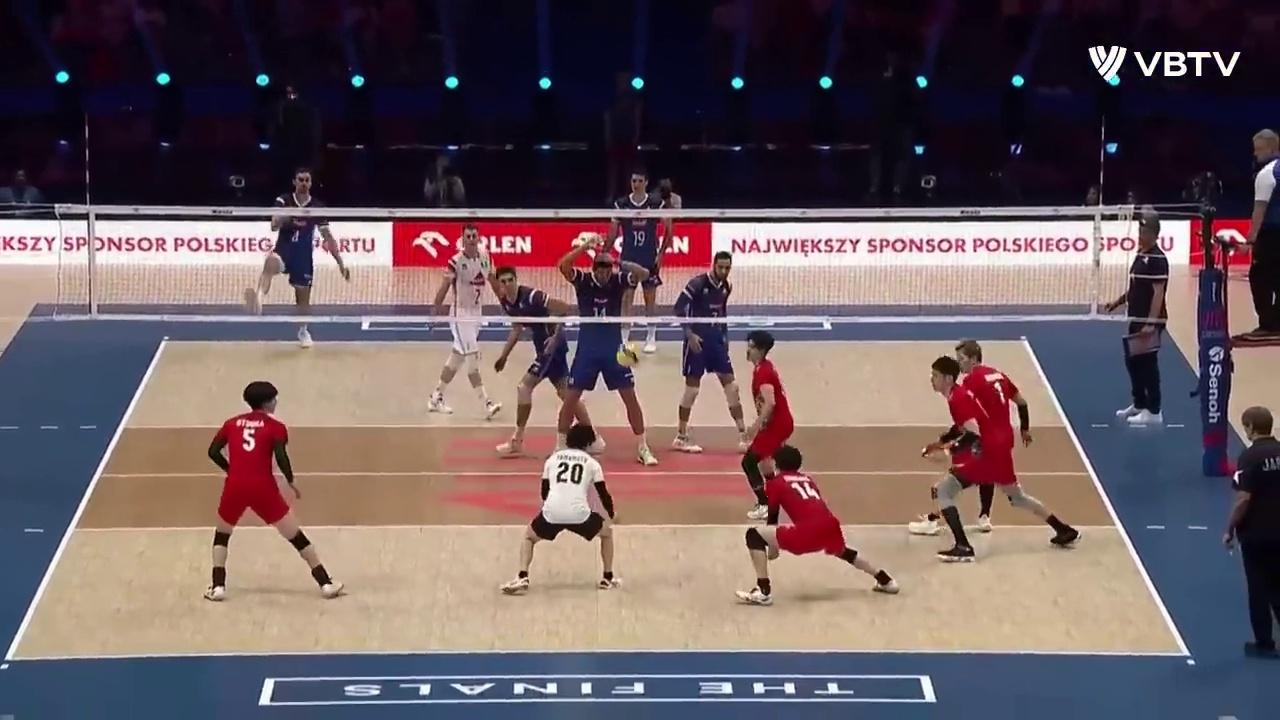ball: (617, 344, 641, 368)
